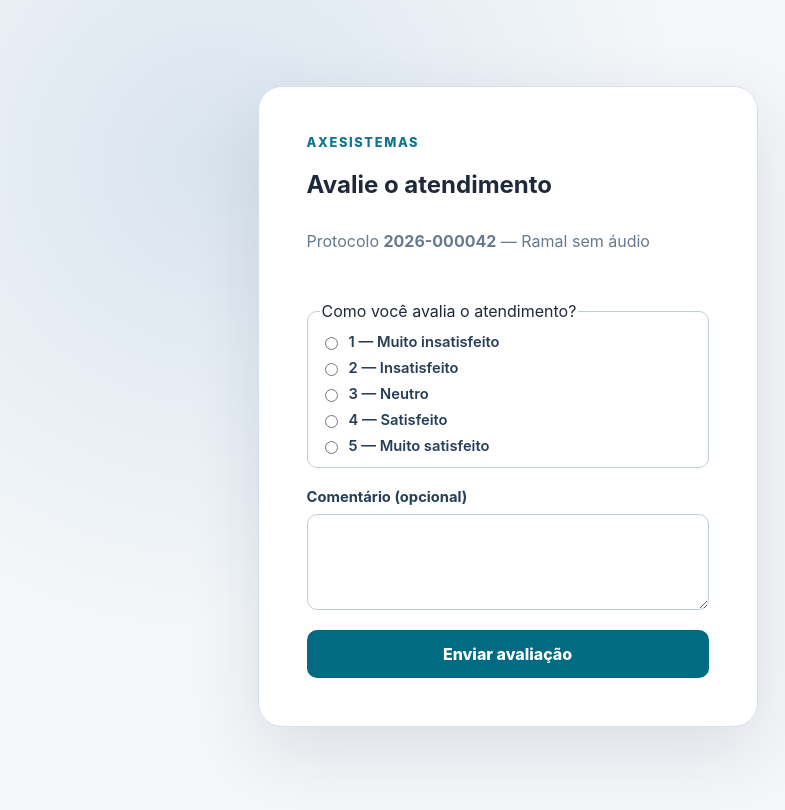
Test case: C5.4 public satisfaction page › shows only protocol, subject and organization, then submits once
Expected: the text "Axesistemas" is shown, [306,135,419,150]
Expected: the text "2026-000042" is shown, [384,231,496,251]
Click the button "Enviar avaliação": (508, 654) [306,630,708,678]
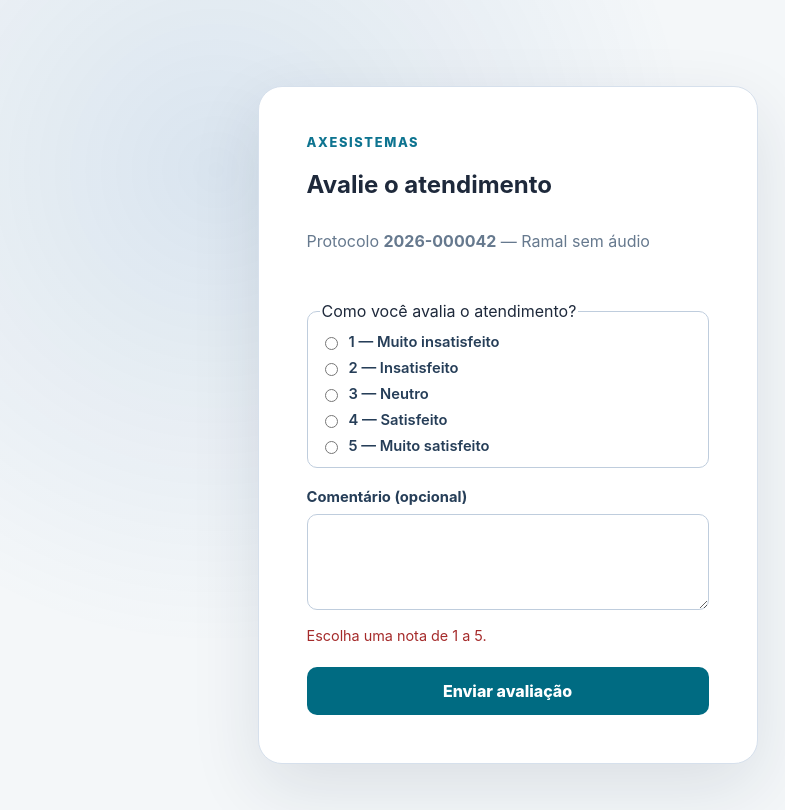
Now the text "Escolha uma nota de 1 a 5." is shown, box [306,627,487,644]
Click the radio button labelled "4 — Satisfeito": (331, 422) [324,415,338,428]
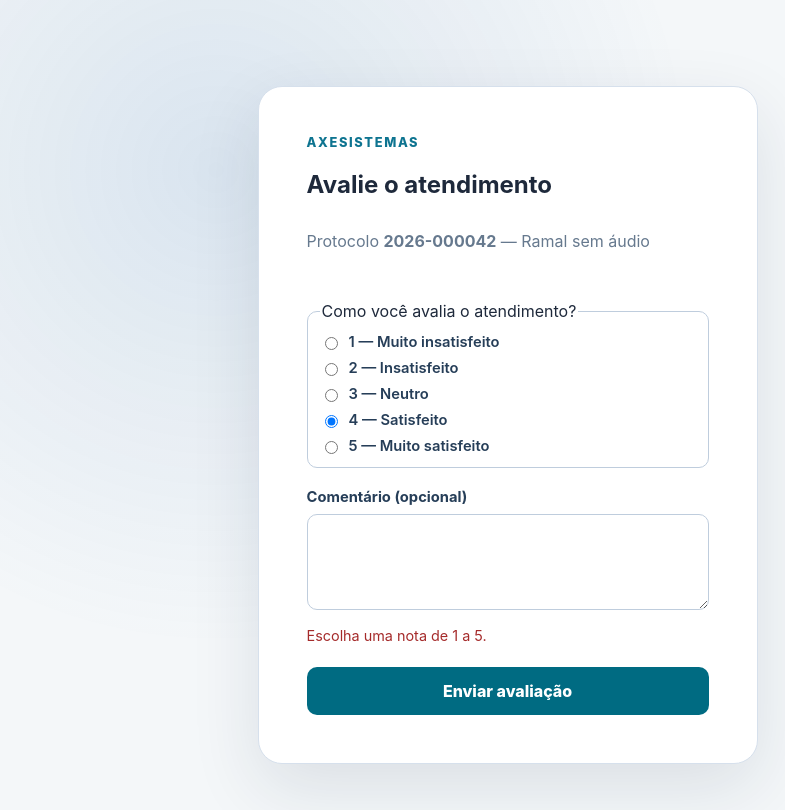
In the text box labelled "Comentário (opcional)": (508, 562) [306,514,708,610], type "  Rápido e cordial "
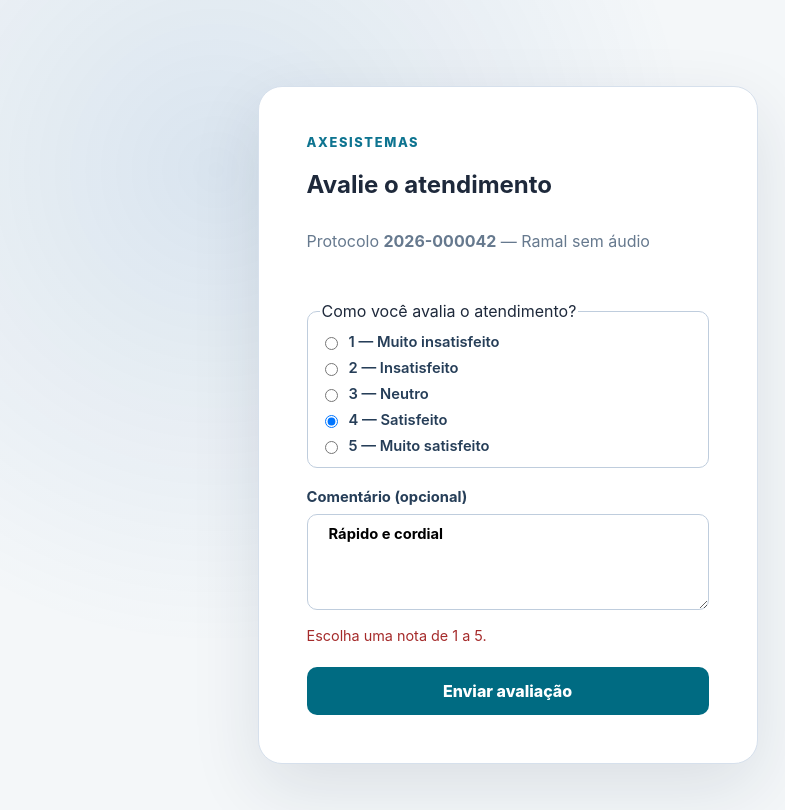
Click the button "Enviar avaliação": (508, 691) [306,667,708,715]
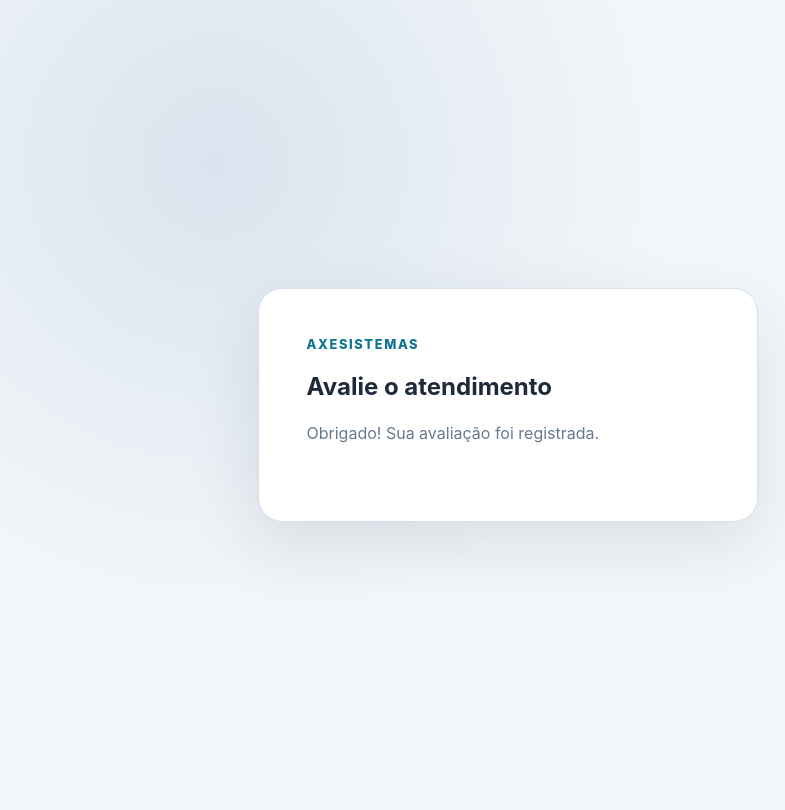
Now the text "Obrigado! Sua avaliação foi registrada." is shown, box [306,423,599,443]
